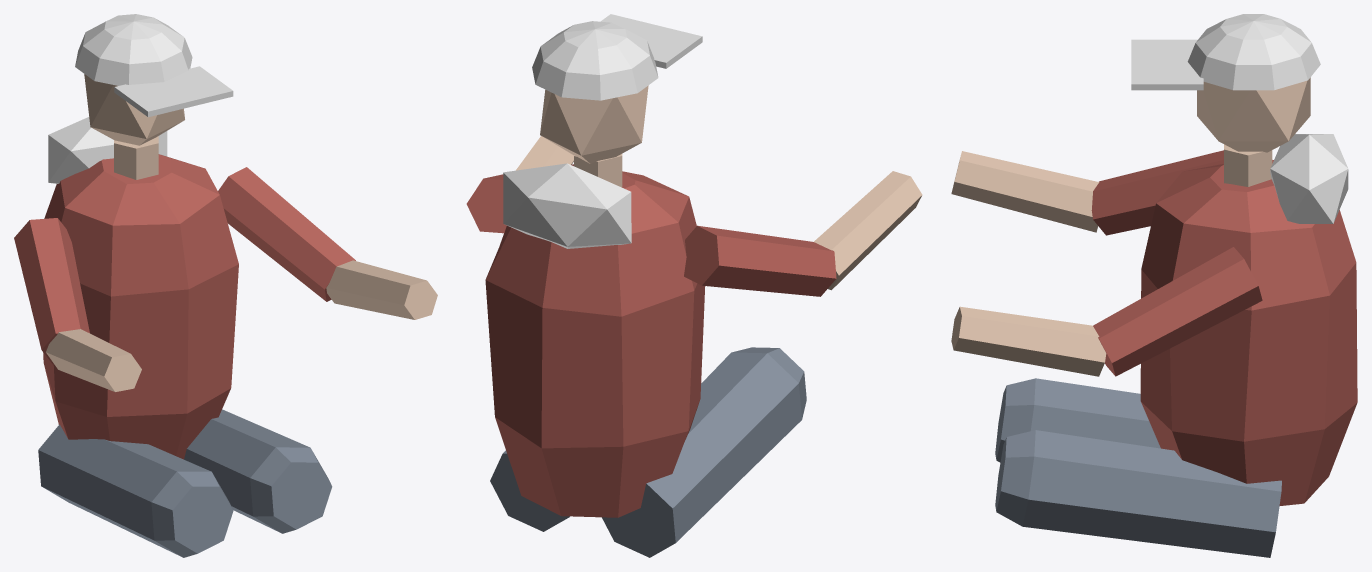
The model's file is paddler.glb.
The picture shows the model from 3 angles, left to right: view 1: azimuth 30°, elevation 25°; view 2: azimuth 150°, elevation 25°; view 3: azimuth 270°, elevation 25°; orthographic projection. The views are drawn at different scales.
Parts seen in each view (by area): view 1: Paddler_torso, Paddler_thigh, Paddler_thigh.001, Paddler_uarm.001, Paddler_cap, Paddler_uarm, Paddler_larm.001, Paddler_larm, Paddler_head, Paddler_bill, Paddler_hood, Paddler_neck; view 2: Paddler_torso, Paddler_thigh, Paddler_hood, Paddler_uarm, Paddler_cap, Paddler_head, Paddler_larm, Paddler_thigh.001, Paddler_bill, Paddler_uarm.001, Paddler_larm.001, Paddler_neck; view 3: Paddler_torso, Paddler_thigh.001, Paddler_uarm.001, Paddler_thigh, Paddler_cap, Paddler_larm.001, Paddler_larm, Paddler_head, Paddler_hood, Paddler_uarm, Paddler_bill, Paddler_neck.
Part boxes in pixels (bbox=[...]): Paddler_torso: bbox=[43, 154, 238, 459]; Paddler_thigh: bbox=[38, 424, 233, 557]; Paddler_thigh.001: bbox=[184, 409, 332, 533]; Paddler_uarm.001: bbox=[218, 167, 355, 301]; Paddler_cap: bbox=[75, 14, 192, 85]; Paddler_uarm: bbox=[14, 218, 89, 364]; Paddler_larm.001: bbox=[326, 260, 437, 319]; Paddler_larm: bbox=[46, 329, 141, 391]; Paddler_head: bbox=[84, 74, 184, 145]; Paddler_bill: bbox=[114, 66, 233, 117]; Paddler_hood: bbox=[48, 117, 167, 183]; Paddler_neck: bbox=[114, 136, 158, 179]; Paddler_torso: bbox=[485, 164, 705, 517]; Paddler_thigh: bbox=[602, 347, 806, 557]; Paddler_hood: bbox=[503, 163, 631, 248]; Paddler_uarm: bbox=[684, 225, 836, 296]; Paddler_cap: bbox=[532, 21, 658, 100]; Paddler_head: bbox=[540, 85, 648, 163]; Paddler_larm: bbox=[814, 171, 922, 290]; Paddler_thigh.001: bbox=[490, 450, 569, 531]; Paddler_bill: bbox=[601, 14, 702, 68]; Paddler_uarm.001: bbox=[466, 174, 506, 233]; Paddler_larm.001: bbox=[516, 136, 573, 170]; Paddler_neck: bbox=[574, 154, 622, 187]; Paddler_torso: bbox=[1140, 160, 1357, 505]; Paddler_thigh.001: bbox=[995, 430, 1281, 557]; Paddler_uarm.001: bbox=[1093, 247, 1262, 376]; Paddler_thigh: bbox=[995, 378, 1160, 462]; Paddler_cap: bbox=[1187, 14, 1320, 90]; Paddler_larm.001: bbox=[951, 306, 1106, 376]; Paddler_larm: bbox=[951, 151, 1099, 232]; Paddler_head: bbox=[1197, 77, 1310, 152]; Paddler_hood: bbox=[1270, 134, 1348, 223]; Paddler_uarm: bbox=[1091, 150, 1223, 235]; Paddler_bill: bbox=[1131, 39, 1203, 90]; Paddler_neck: bbox=[1224, 144, 1272, 186].
Size of the model in its own units: 0.7433 by 1.01 by 0.7302.
